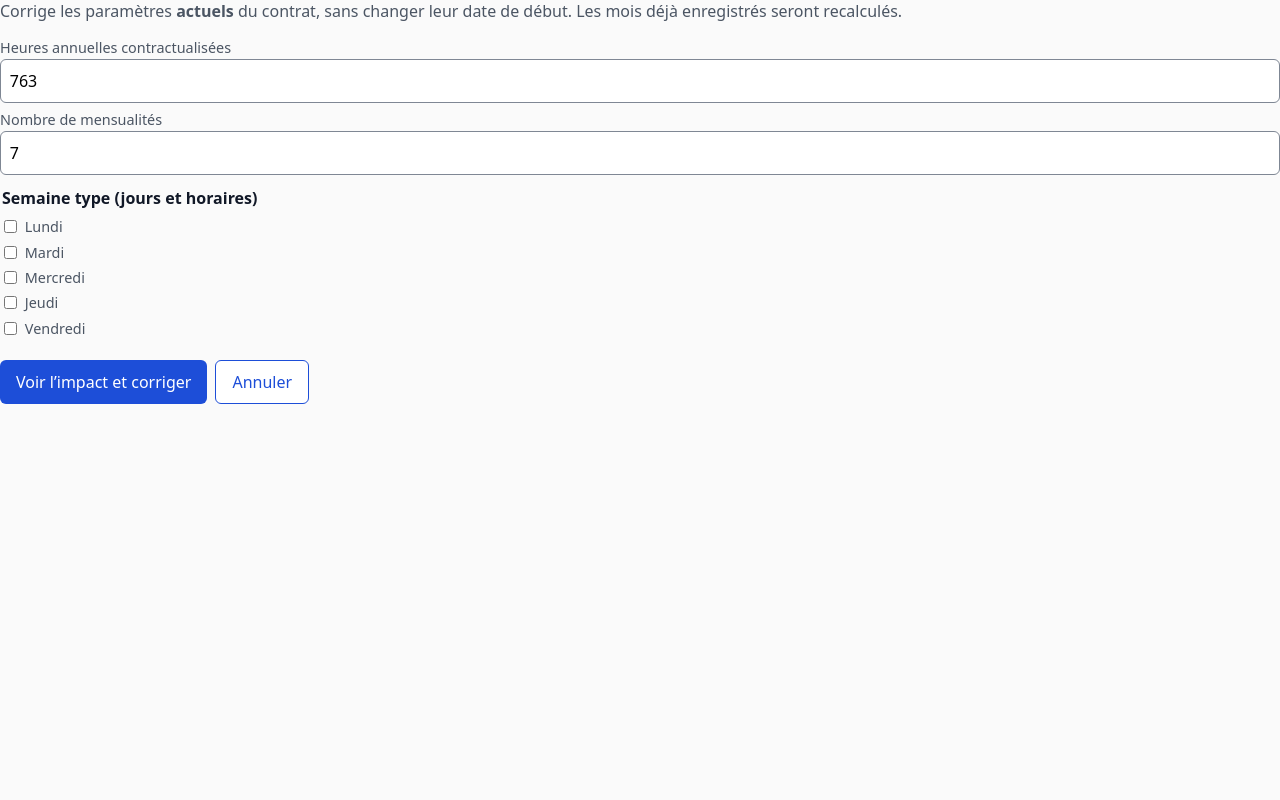
Test: FormulaireVersionContrat › correction : une erreur d’enregistrement s’affiche dans la modale
The width and height of the screenshot is (1280, 800).
Click the button "Voir l’impact et corriger" at {"x": 104, "y": 382}, box [0,360,208,404]
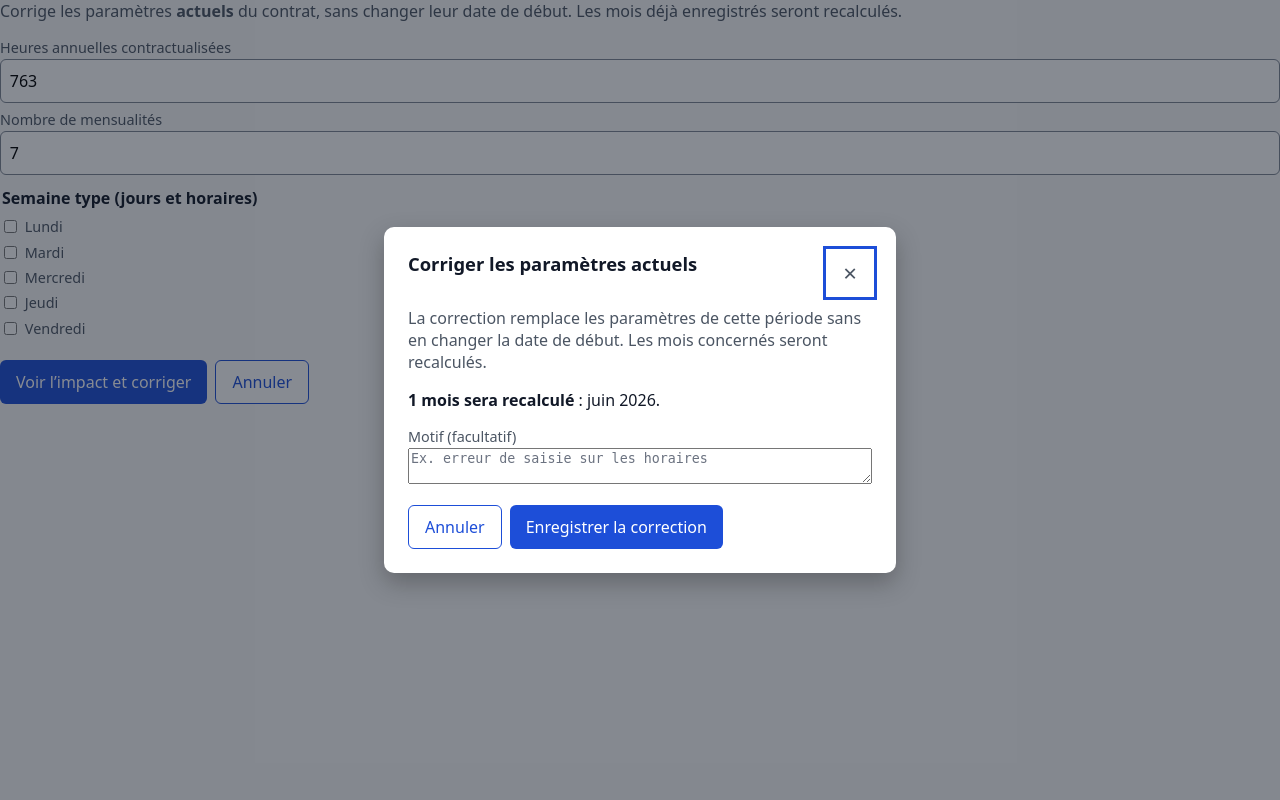
Expected: the text "1 mois sera recalculé" is shown, [408,389,574,411]
Click the button "Enregistrer la correction" at {"x": 616, "y": 527}, box [510,505,723,549]
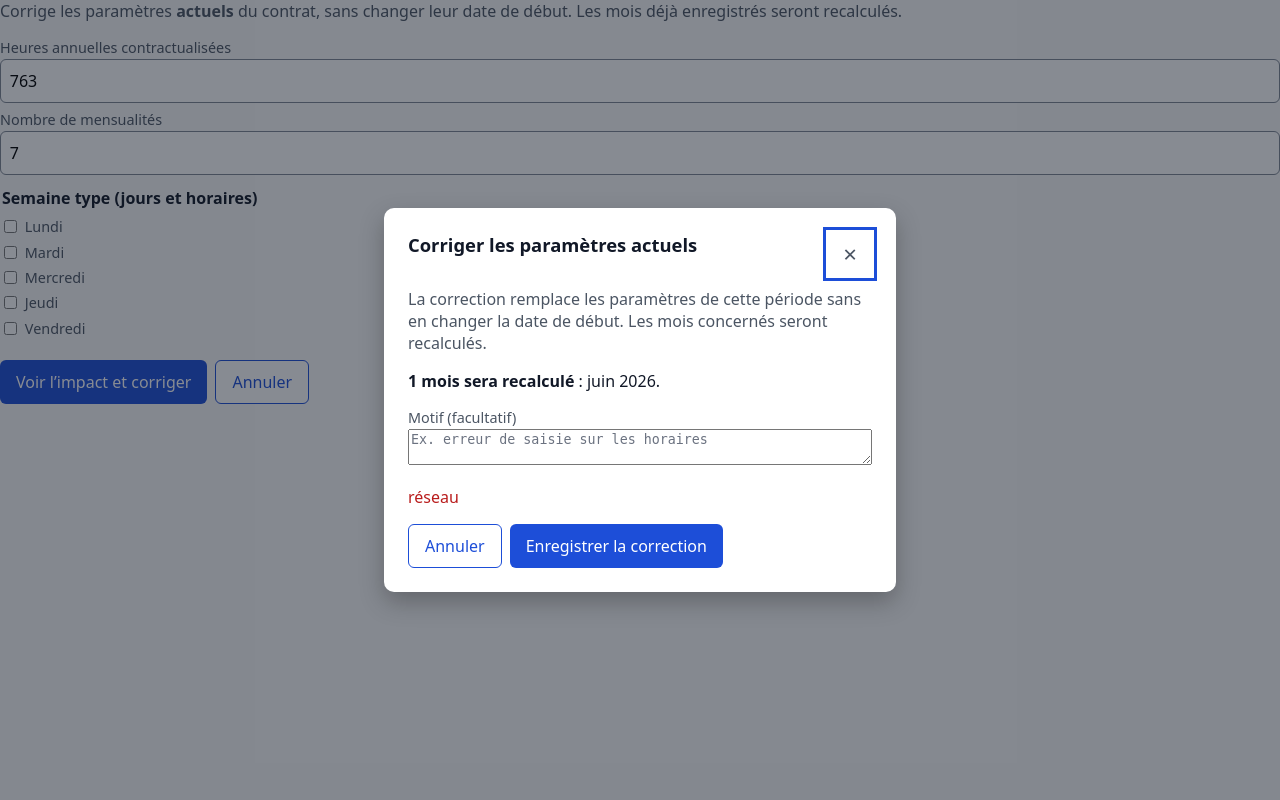
Expected: the text "réseau" is shown, [408,486,459,508]
